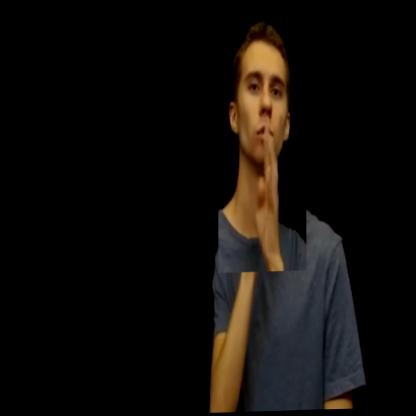Talk: (214, 0, 308, 273)
